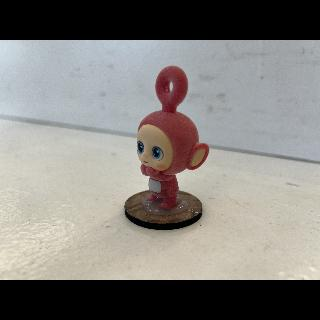teletubby: (137, 66, 209, 209)
